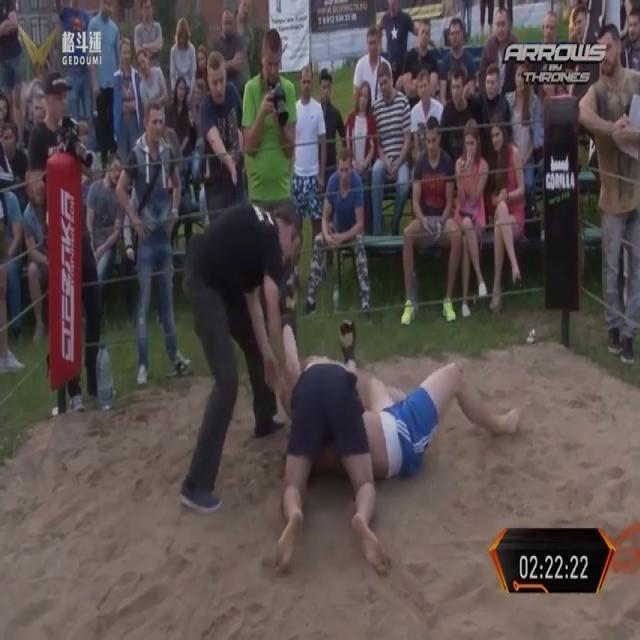fight: (258, 328, 525, 584)
non-fight: (179, 188, 304, 512), (239, 27, 304, 394), (577, 20, 639, 364), (128, 93, 186, 383), (398, 111, 462, 329), (483, 112, 528, 312), (344, 80, 382, 247), (84, 0, 121, 160), (22, 81, 62, 206), (476, 2, 520, 106), (436, 16, 475, 104), (381, 0, 416, 84), (167, 16, 198, 103)
